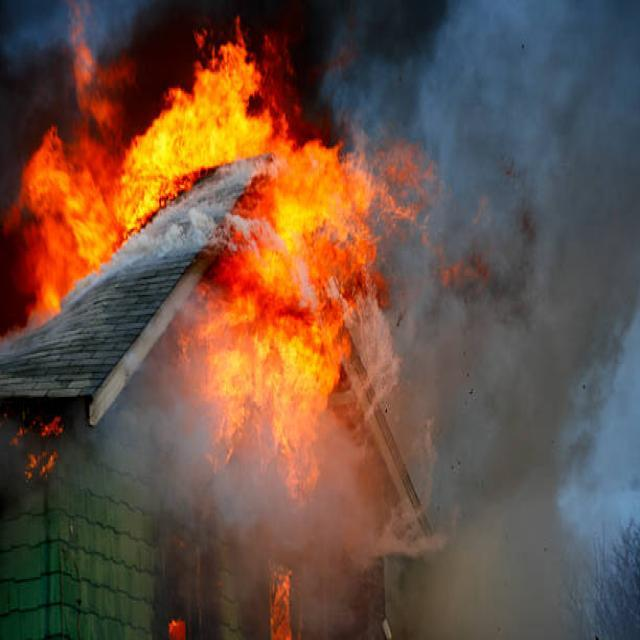Fire: (14, 56, 390, 462), (267, 564, 286, 640), (172, 613, 189, 640)
Smoke: (356, 0, 640, 640)
